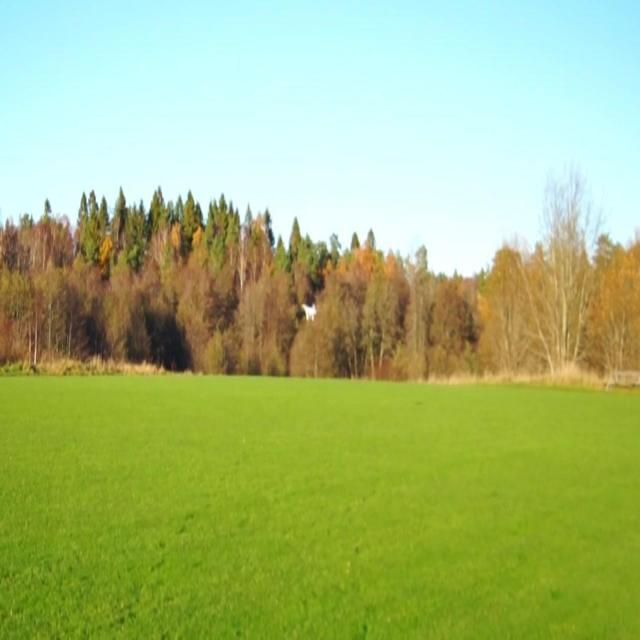UAV: (301, 302, 317, 322)
